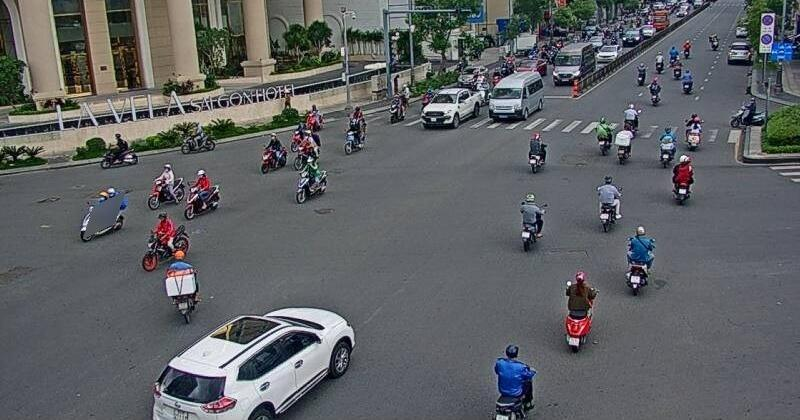xe hoi: (151, 305, 358, 420), (421, 87, 480, 128)
xe may: (489, 344, 535, 420), (141, 210, 190, 271), (560, 268, 596, 351), (165, 249, 204, 323), (81, 186, 124, 240), (625, 225, 655, 290), (183, 167, 219, 219), (147, 162, 185, 209), (295, 155, 330, 205), (517, 193, 544, 251), (595, 176, 621, 235), (99, 132, 138, 167), (671, 154, 695, 206), (259, 132, 286, 174), (181, 121, 215, 154), (293, 129, 320, 170), (614, 123, 634, 165), (344, 116, 366, 154), (526, 132, 545, 174), (682, 112, 702, 150), (658, 124, 676, 165), (594, 115, 612, 155), (621, 102, 640, 136)
xe van: (487, 70, 545, 119)
